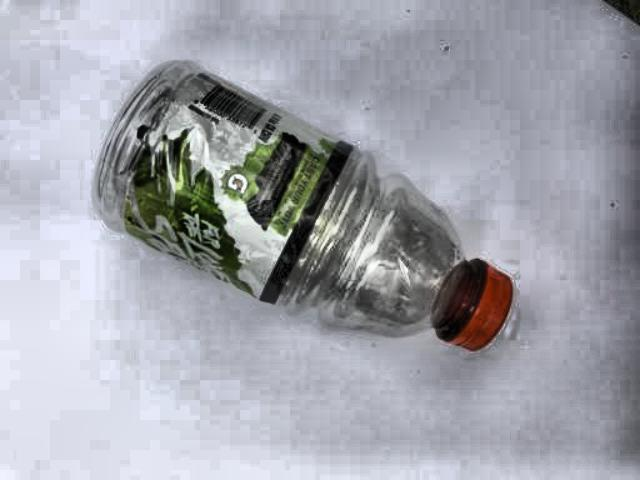Bottles: (96, 32, 531, 359)
